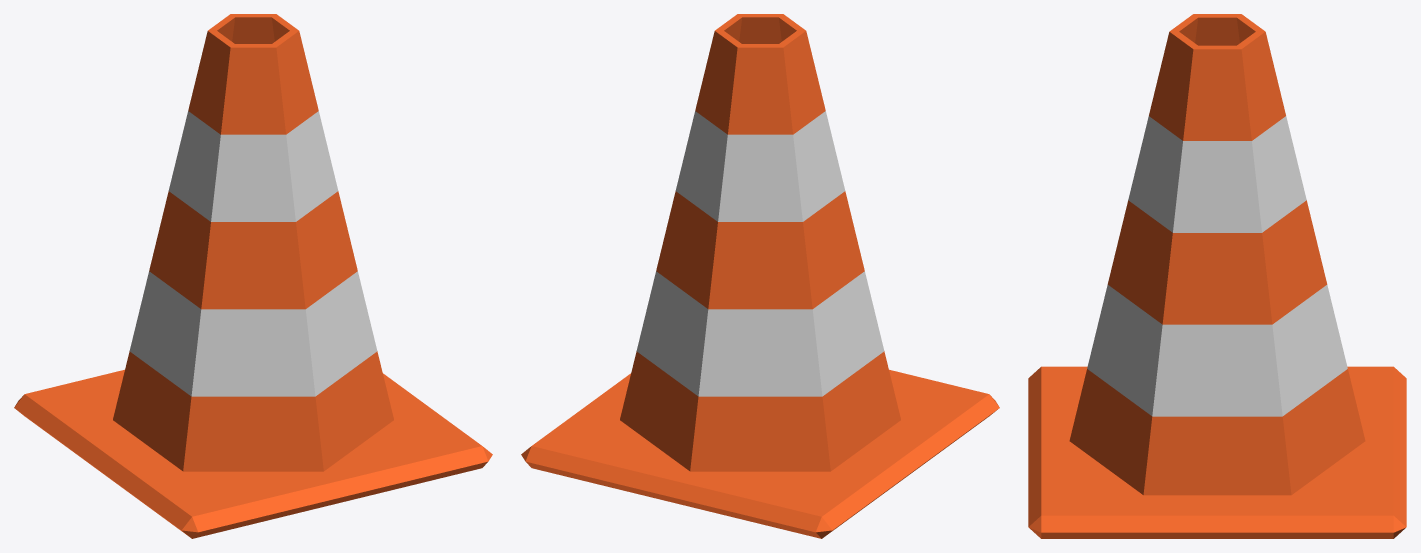
The model's file is TrafficCone.glb.
The picture shows the model from 3 angles, left to right: view 1: azimuth 30°, elevation 25°; view 2: azimuth 150°, elevation 25°; view 3: azimuth 270°, elevation 25°; orthographic projection. The views are drawn at different scales.
Parts seen in each view (by area): view 1: Cone; view 2: Cone; view 3: Cone.
Part boxes in pixels (x1,y1,x2,y2): Cone: [14, 14, 492, 538]; Cone: [521, 14, 999, 538]; Cone: [1028, 14, 1406, 538].
Size of the model in its own units: 0.9996 by 1.26 by 0.9996.
